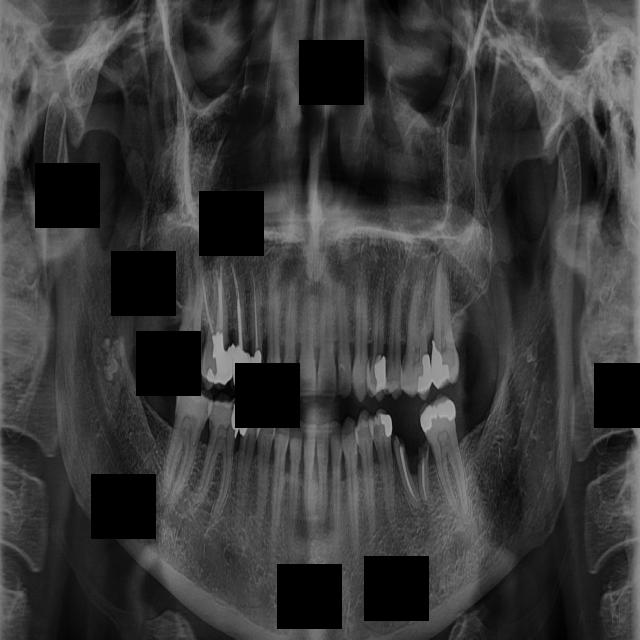71: (237, 295, 244, 353)
72: (390, 434, 422, 509), (417, 439, 430, 499)
74: (200, 279, 213, 335), (215, 266, 224, 330), (216, 262, 224, 330), (253, 272, 259, 351), (230, 262, 240, 303)
NucleOSS Implant: (205, 331, 237, 385), (414, 401, 442, 434), (431, 339, 449, 388), (232, 404, 258, 436), (417, 352, 434, 393), (249, 349, 262, 389), (231, 400, 244, 438), (374, 356, 386, 392), (437, 399, 455, 420), (379, 412, 394, 437)
Sterngold Implant: (252, 417, 261, 435), (210, 414, 214, 432)
Zimmer Implant: (228, 345, 251, 389)
